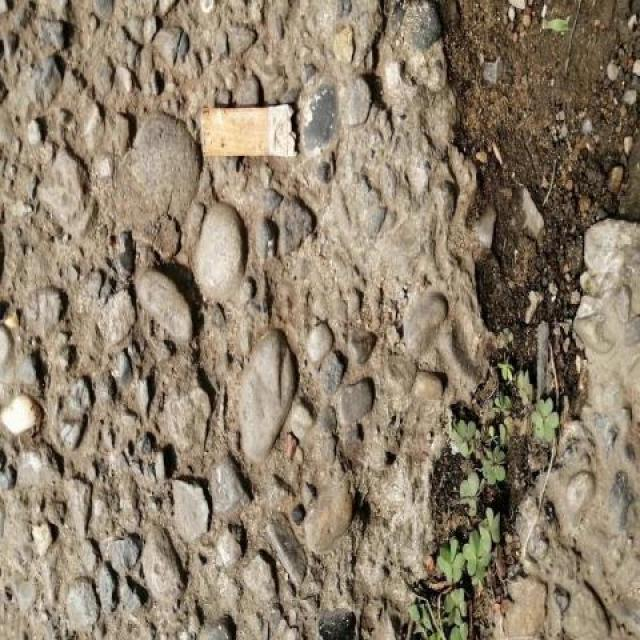non-organic waste: (195, 96, 302, 165)
